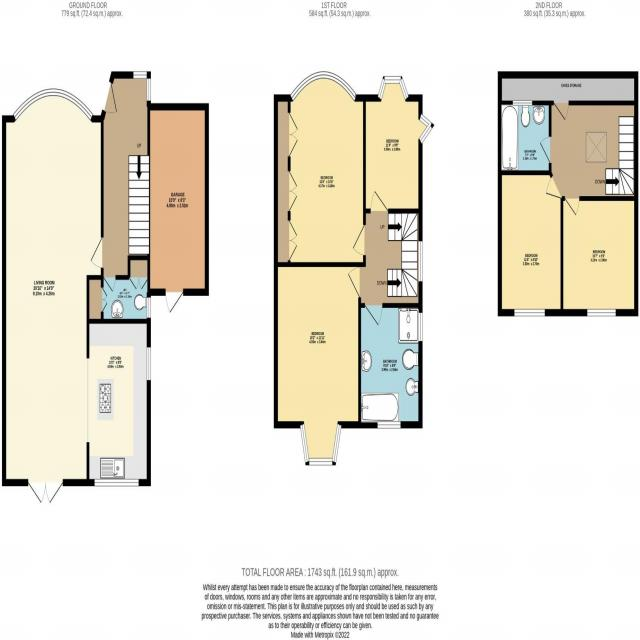DOOR: (102, 80, 118, 114), (352, 223, 366, 257), (364, 303, 383, 328), (545, 173, 563, 199), (347, 266, 361, 299), (90, 236, 104, 269), (370, 190, 389, 214), (539, 135, 552, 165), (564, 195, 580, 217), (553, 100, 569, 122), (103, 275, 116, 293)
DOUBLE DOOR: (27, 478, 64, 506)
ROOM: (2, 87, 152, 506), (274, 71, 366, 267), (273, 262, 360, 466), (363, 76, 435, 214), (560, 196, 639, 317), (498, 170, 563, 317)
WINDOW: (13, 89, 94, 121), (290, 71, 357, 102), (299, 421, 343, 467), (377, 76, 409, 101), (418, 112, 435, 145), (133, 71, 151, 102), (94, 478, 139, 487), (514, 308, 545, 317), (587, 308, 616, 317), (377, 420, 401, 429), (418, 240, 423, 283), (146, 346, 151, 381), (418, 312, 423, 342), (512, 100, 533, 106), (146, 296, 151, 319)
